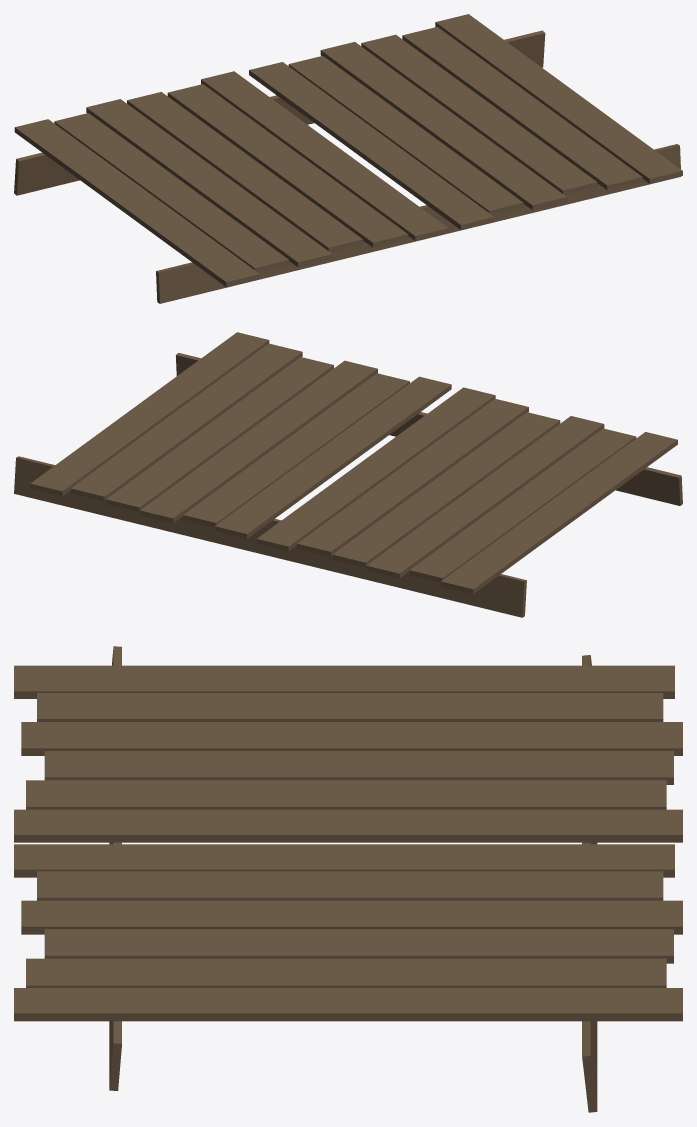
File: Platorm.fbx
The picture shows the model from 3 angles, top to bottom: view 1: azimuth 30°, elevation 25°; view 2: azimuth 150°, elevation 25°; view 3: azimuth 270°, elevation 25°; orthographic projection. The views are drawn at different scales.
Visible parts, largest first — view 1: Group1; view 2: Group1; view 3: Group1.
Part boxes in pixels (x1=…): Group1: x1=14, y1=14, x2=682, y2=303; Group1: x1=14, y1=332, x2=682, y2=617; Group1: x1=14, y1=646, x2=682, y2=1112.
Bounding box in the file's own units: 214 × 16.01 × 148.
